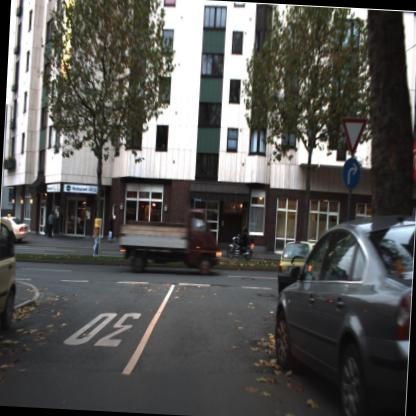mandatory: (337, 156, 364, 191)
other: (337, 114, 369, 154)
